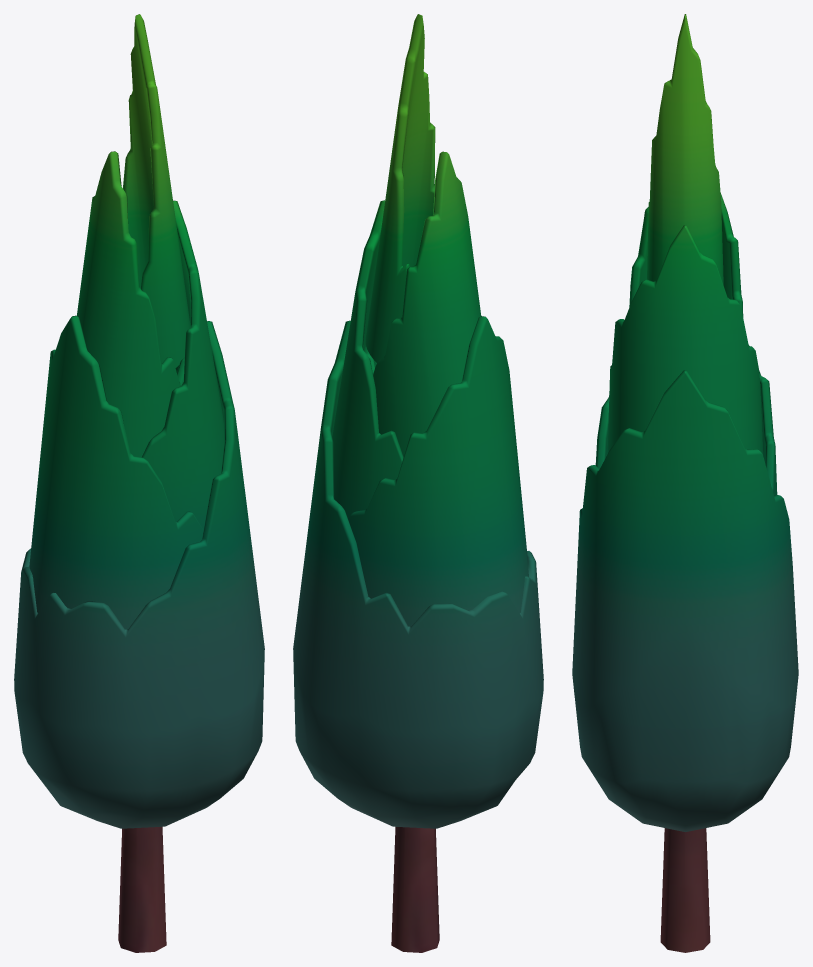
Rendered from arboles8.fbx.
3 views of the same model, side by side, from view 1: azimuth 30°, elevation 25°; view 2: azimuth 150°, elevation 25°; view 3: azimuth 270°, elevation 25° (orthographic).
Visible parts, largest first — view 1: Tree_Base_Material_0.001; view 2: Tree_Base_Material_0.001; view 3: Tree_Base_Material_0.001.
Part boxes in pixels (x1=…): Tree_Base_Material_0.001: x1=14, y1=14, x2=264, y2=952; Tree_Base_Material_0.001: x1=293, y1=14, x2=543, y2=952; Tree_Base_Material_0.001: x1=572, y1=14, x2=798, y2=952.
Bounding box in the file's own units: 247 × 1016 × 225.
